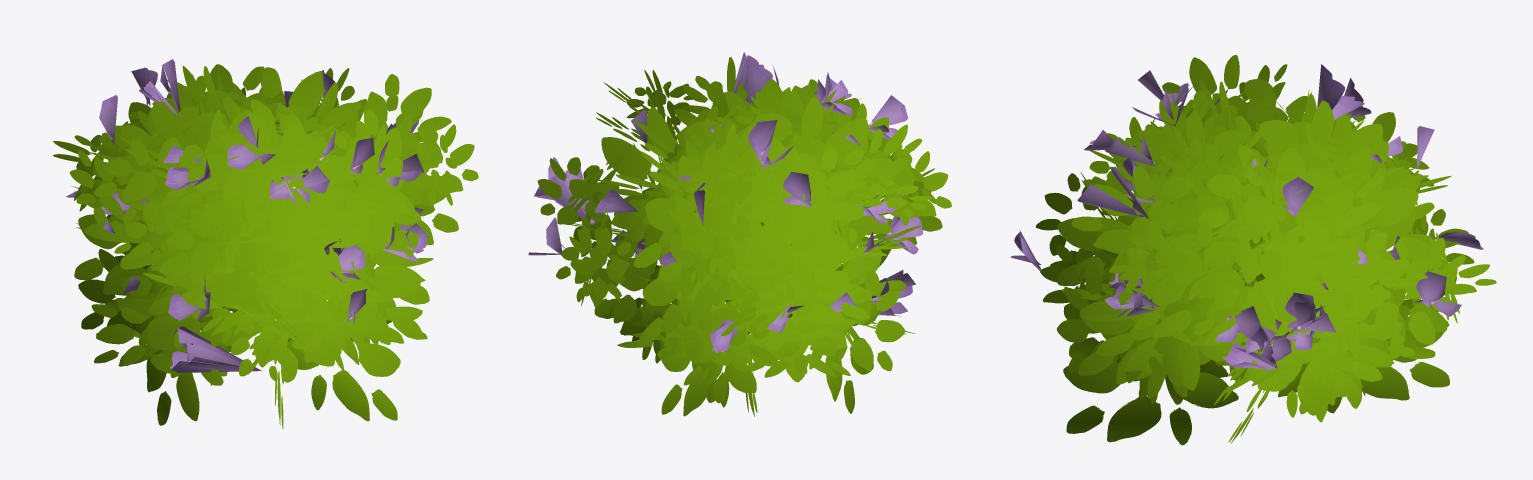
File: bush_common_flowers_33.gltf
3 renders of one model, left to right at view 1: azimuth 30°, elevation 25°; view 2: azimuth 150°, elevation 25°; view 3: azimuth 270°, elevation 25°, orthographic. The views are drawn at different scales.
Visible parts, largest first — view 1: bush_common_flowers_33; view 2: bush_common_flowers_33; view 3: bush_common_flowers_33.
Boxes of the visible parts, x1,y1,x2,y2 form: bush_common_flowers_33: (53, 59, 478, 428); bush_common_flowers_33: (528, 52, 951, 416); bush_common_flowers_33: (1010, 55, 1496, 445).
Size of the model in its own units: 0.911 by 0.8389 by 0.9439.
2 materials, 2 textured.
